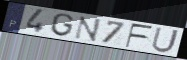4: (25, 8, 47, 35)
7: (101, 19, 126, 45)
F: (125, 23, 155, 49)
G: (49, 12, 75, 38)
N: (73, 15, 103, 43)
U: (150, 26, 181, 54)
